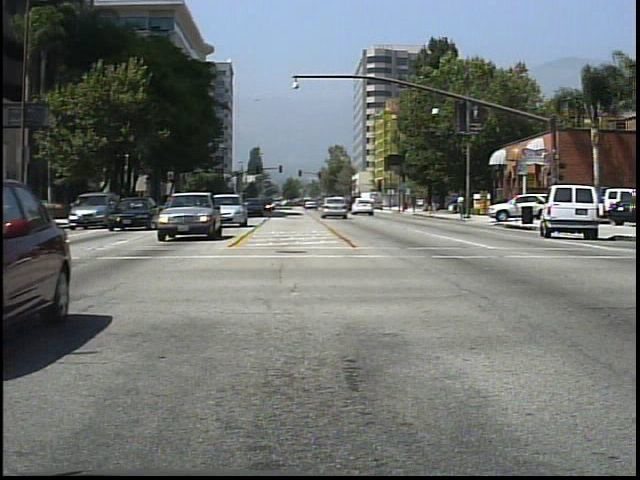person: (454, 189, 469, 221), (429, 191, 441, 215)
